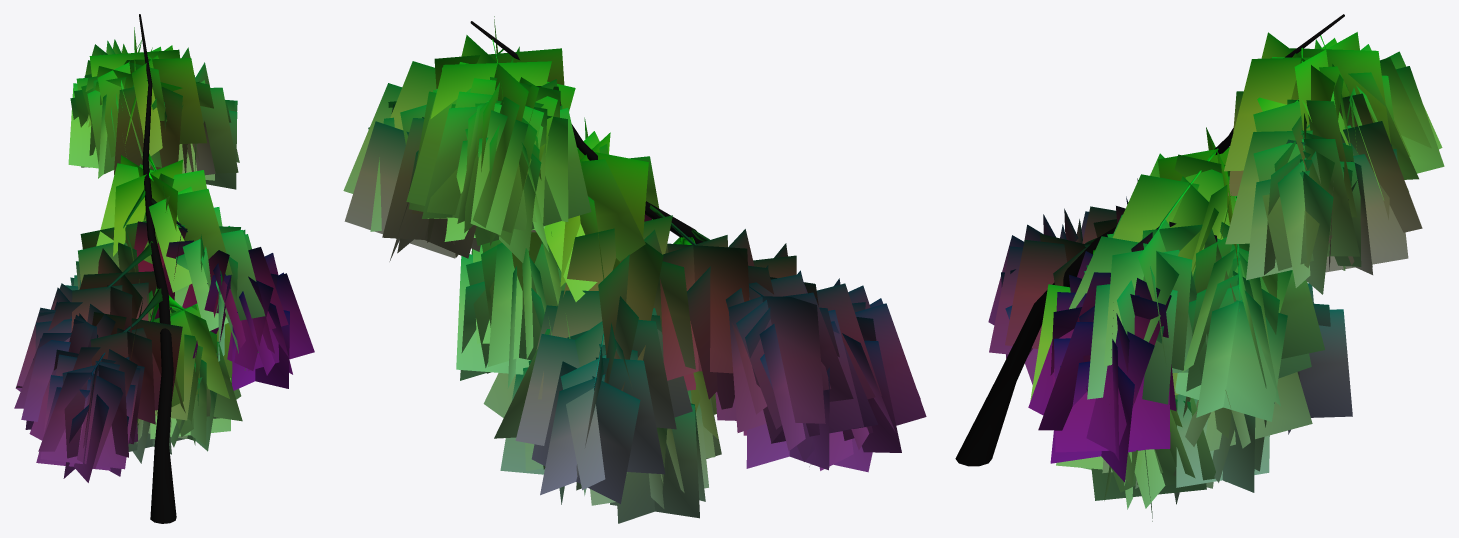
File: URP_P13_Tree_3_LOD_2.fbx
The picture shows the model from 3 angles, left to right: view 1: azimuth 30°, elevation 25°; view 2: azimuth 150°, elevation 25°; view 3: azimuth 270°, elevation 25°; orthographic projection. The views are drawn at different scales.
Visible parts, largest first — view 1: Tree_3_LOD_2; view 2: Tree_3_LOD_2; view 3: Tree_3_LOD_2.
Part boxes in pixels (x1,y1,x2,y2): Tree_3_LOD_2: (14,14,314,523); Tree_3_LOD_2: (343,16,926,523); Tree_3_LOD_2: (955,14,1444,521).
Size of the model in its own units: 426 by 522 by 446.
